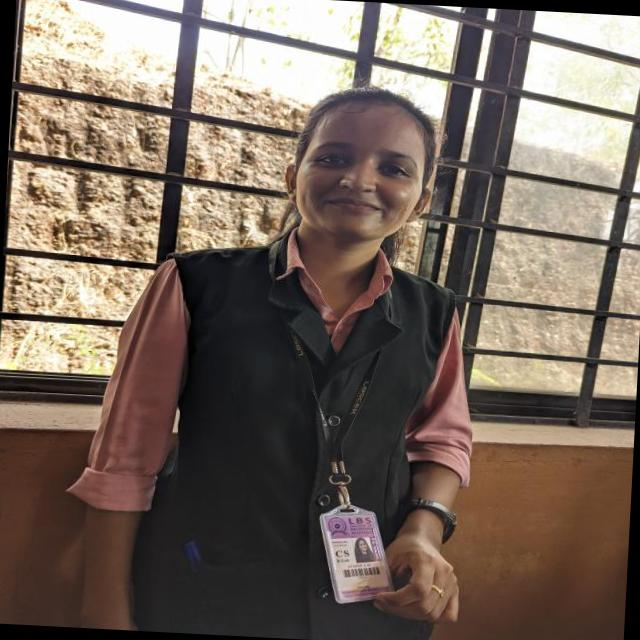id_card: (257, 242, 413, 605)
